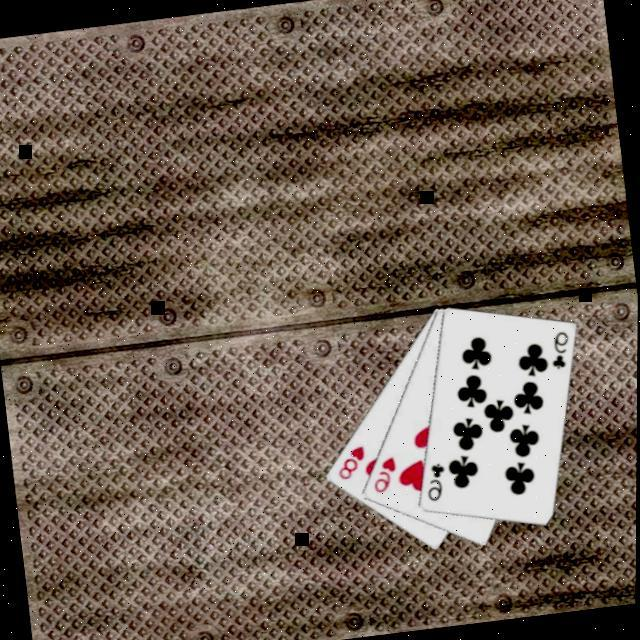8H: (334, 442, 372, 484)
9C: (422, 459, 453, 506), (547, 328, 576, 373)
9H: (369, 454, 403, 497)
